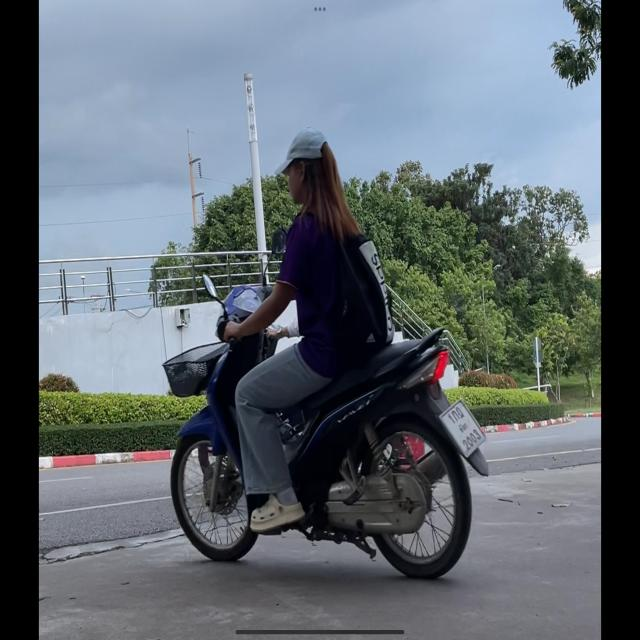seatbelt: (274, 125, 337, 209)
